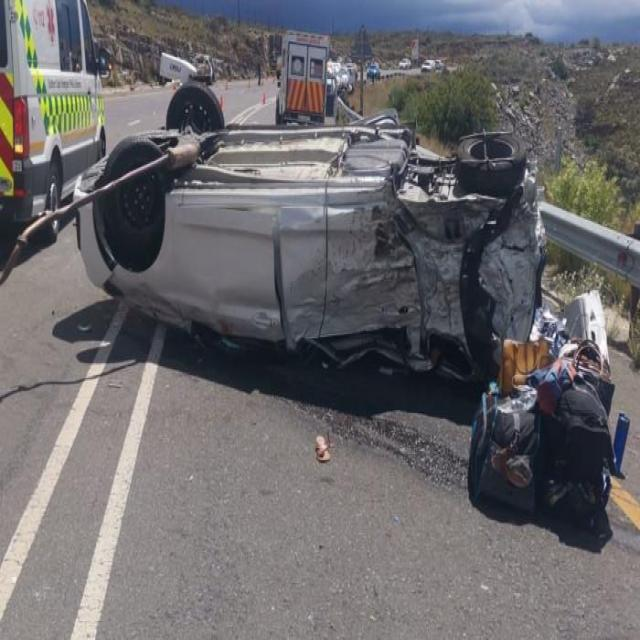accident: (68, 70, 545, 382)
